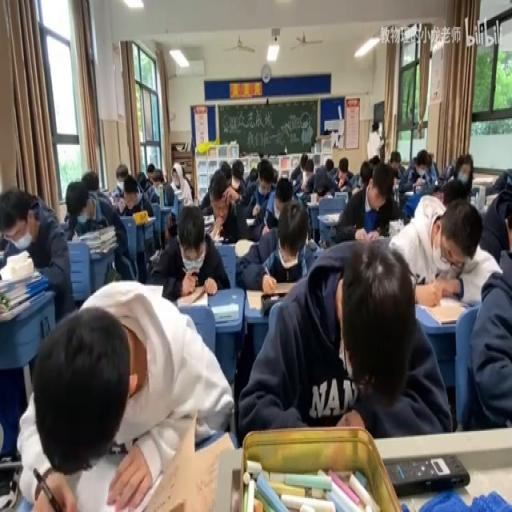calculator: (386, 452, 468, 494), (418, 297, 466, 327), (245, 284, 293, 312), (210, 300, 238, 322), (180, 287, 210, 307), (316, 196, 344, 216), (234, 236, 252, 256), (90, 244, 115, 258), (388, 218, 405, 236), (484, 193, 499, 209), (322, 212, 340, 225), (180, 194, 196, 208), (108, 192, 121, 206), (469, 185, 478, 205), (149, 246, 159, 263), (458, 298, 473, 308), (202, 213, 214, 225), (170, 188, 182, 200), (305, 238, 317, 250), (210, 232, 223, 243), (306, 196, 320, 206), (333, 191, 346, 199), (0, 249, 6, 266), (245, 216, 255, 225), (295, 191, 305, 199), (98, 185, 107, 193), (404, 189, 414, 196)
paper: (19, 277, 231, 508), (238, 232, 446, 439), (390, 190, 500, 304), (0, 186, 74, 324), (154, 202, 228, 301), (237, 192, 314, 287), (330, 158, 400, 244), (66, 176, 114, 240), (115, 173, 154, 239), (429, 155, 474, 206), (147, 168, 178, 230), (398, 148, 435, 193), (197, 168, 218, 215), (291, 154, 312, 194), (484, 168, 511, 198), (314, 165, 336, 196), (333, 155, 352, 186), (387, 150, 405, 180), (230, 158, 244, 193), (81, 170, 99, 194), (358, 158, 372, 183), (220, 160, 230, 184), (135, 170, 147, 190), (506, 213, 512, 252), (348, 174, 362, 190), (146, 160, 155, 184), (248, 165, 258, 182), (324, 156, 334, 170), (428, 152, 434, 171), (272, 166, 278, 184), (370, 155, 379, 165), (258, 152, 264, 161)
person: (0, 455, 22, 508)
